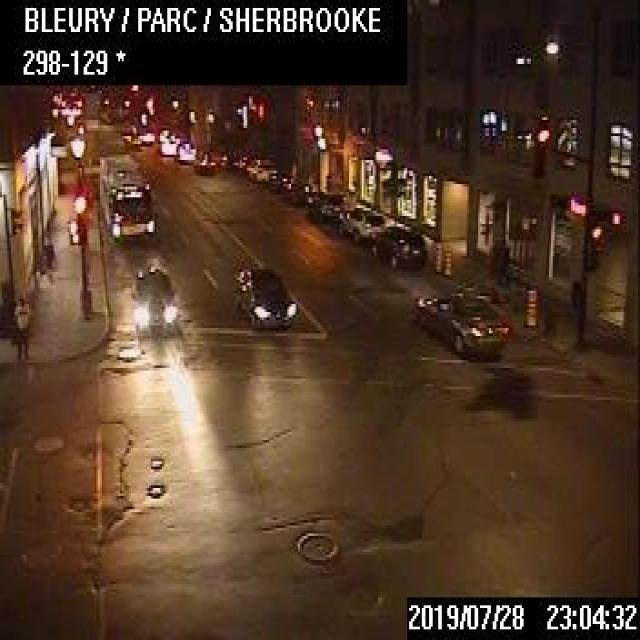bus: (99, 154, 154, 240)
construction: (520, 283, 538, 333), (440, 245, 451, 278), (432, 242, 440, 272)
pedestrian: (12, 294, 31, 366)
vehicle: (412, 286, 510, 356), (233, 264, 294, 325), (130, 260, 176, 330), (369, 224, 425, 268), (337, 203, 383, 240), (307, 189, 343, 219), (245, 156, 275, 180), (157, 127, 180, 154), (192, 150, 215, 173), (176, 139, 195, 161)
